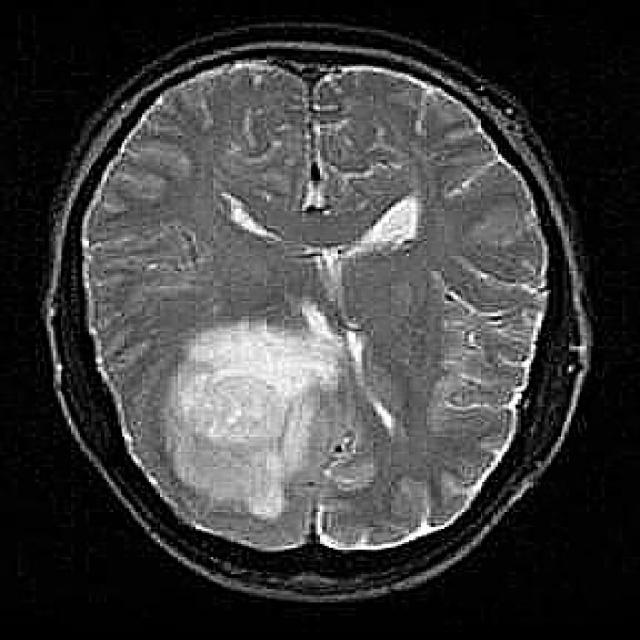Tumor-Cell: (152, 291, 378, 508)
